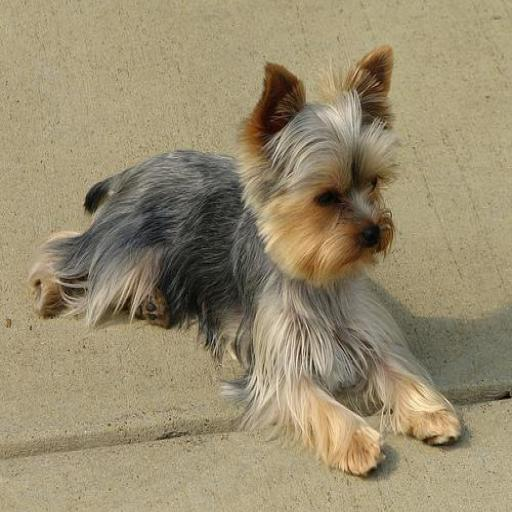dog_face: (250, 54, 394, 276)
